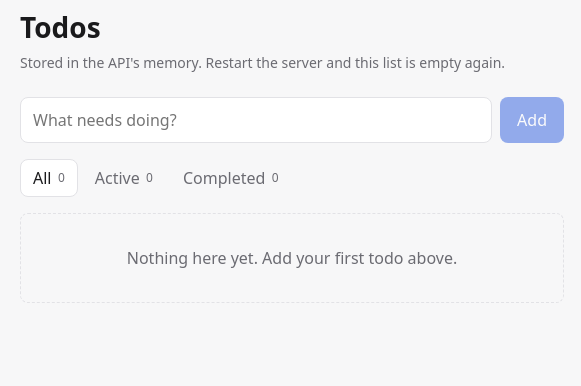
Test case: TodoApp › error handling › surfaces the API error message when creating a todo fails
In the field labelled "What needs doing?": [256, 120] box [20,97,492,143], type "x"
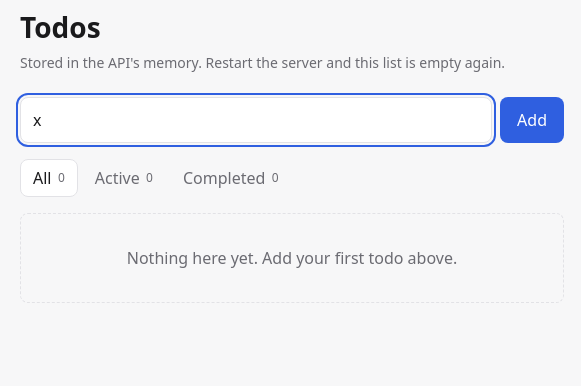
Click the button "Add": [532, 120] box [500,97,564,143]
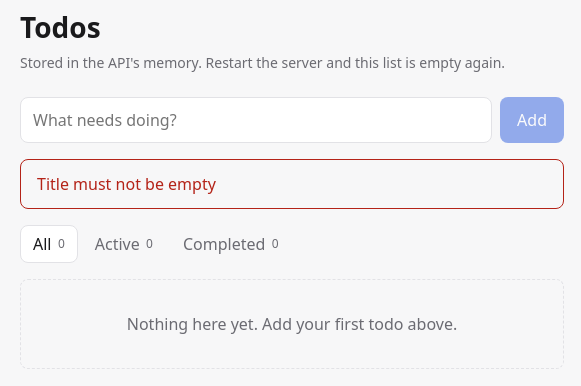
Check: the message reads "Title must not be empty", box [37,173,216,195]
